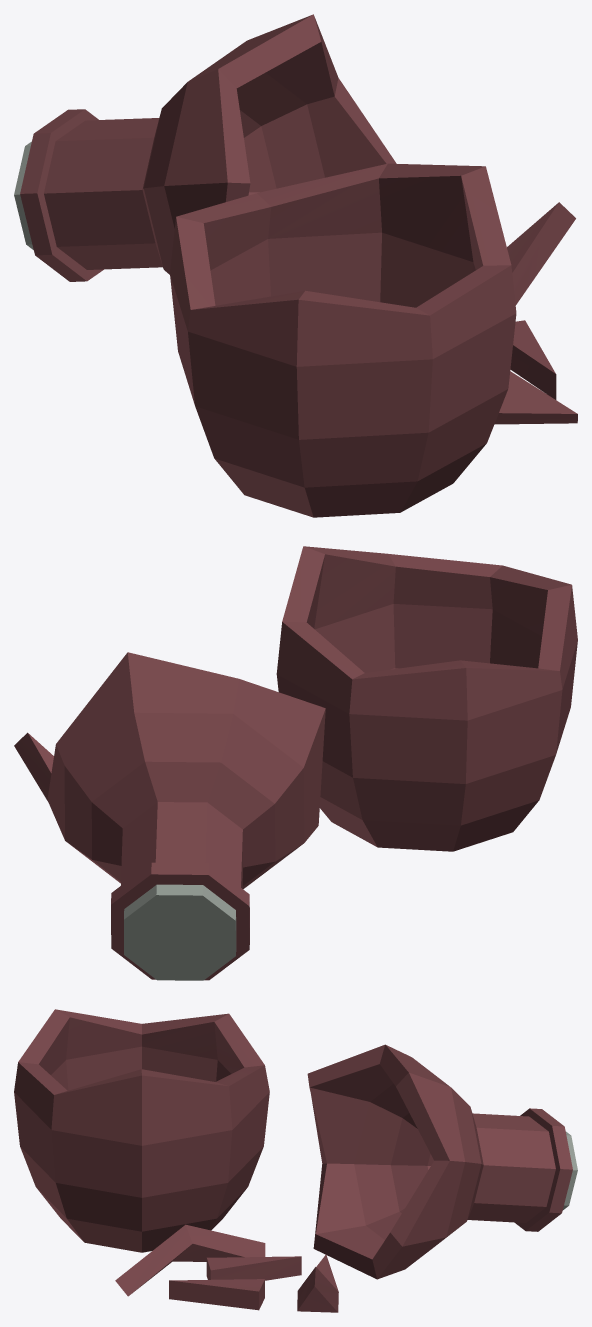
File: Potion_casse.fbx
3 views of the same model, one above another, from view 1: azimuth 30°, elevation 25°; view 2: azimuth 150°, elevation 25°; view 3: azimuth 270°, elevation 25° (orthographic). The views are drawn at different scales.
Visible parts, largest first — view 1: PotionBas.001, PotionHaut.001, Potion_morceaux.001; view 2: PotionBas.001, PotionHaut.001, Potion_morceaux.001; view 3: PotionBas.001, PotionHaut.001, Potion_morceaux.001.
Boxes of the visible parts, left/top/right/bottom form: PotionBas.001: left=170, top=163, right=516, bottom=517; PotionHaut.001: left=14, top=14, right=396, bottom=281; Potion_morceaux.001: left=494, top=202, right=577, bottom=424; PotionBas.001: left=276, top=546, right=577, bottom=851; PotionHaut.001: left=47, top=652, right=325, bottom=980; Potion_morceaux.001: left=14, top=732, right=53, bottom=800; PotionBas.001: left=14, top=1009, right=269, bottom=1252; PotionHaut.001: left=307, top=1044, right=577, bottom=1279; Potion_morceaux.001: left=115, top=1224, right=338, bottom=1312.
Size of the model in its own units: 16.22 by 8.56 by 21.8.
